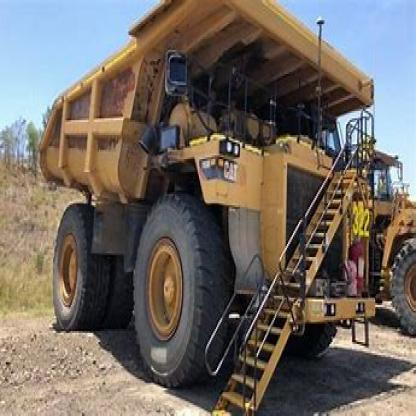dump_truck: (23, 0, 376, 385)
